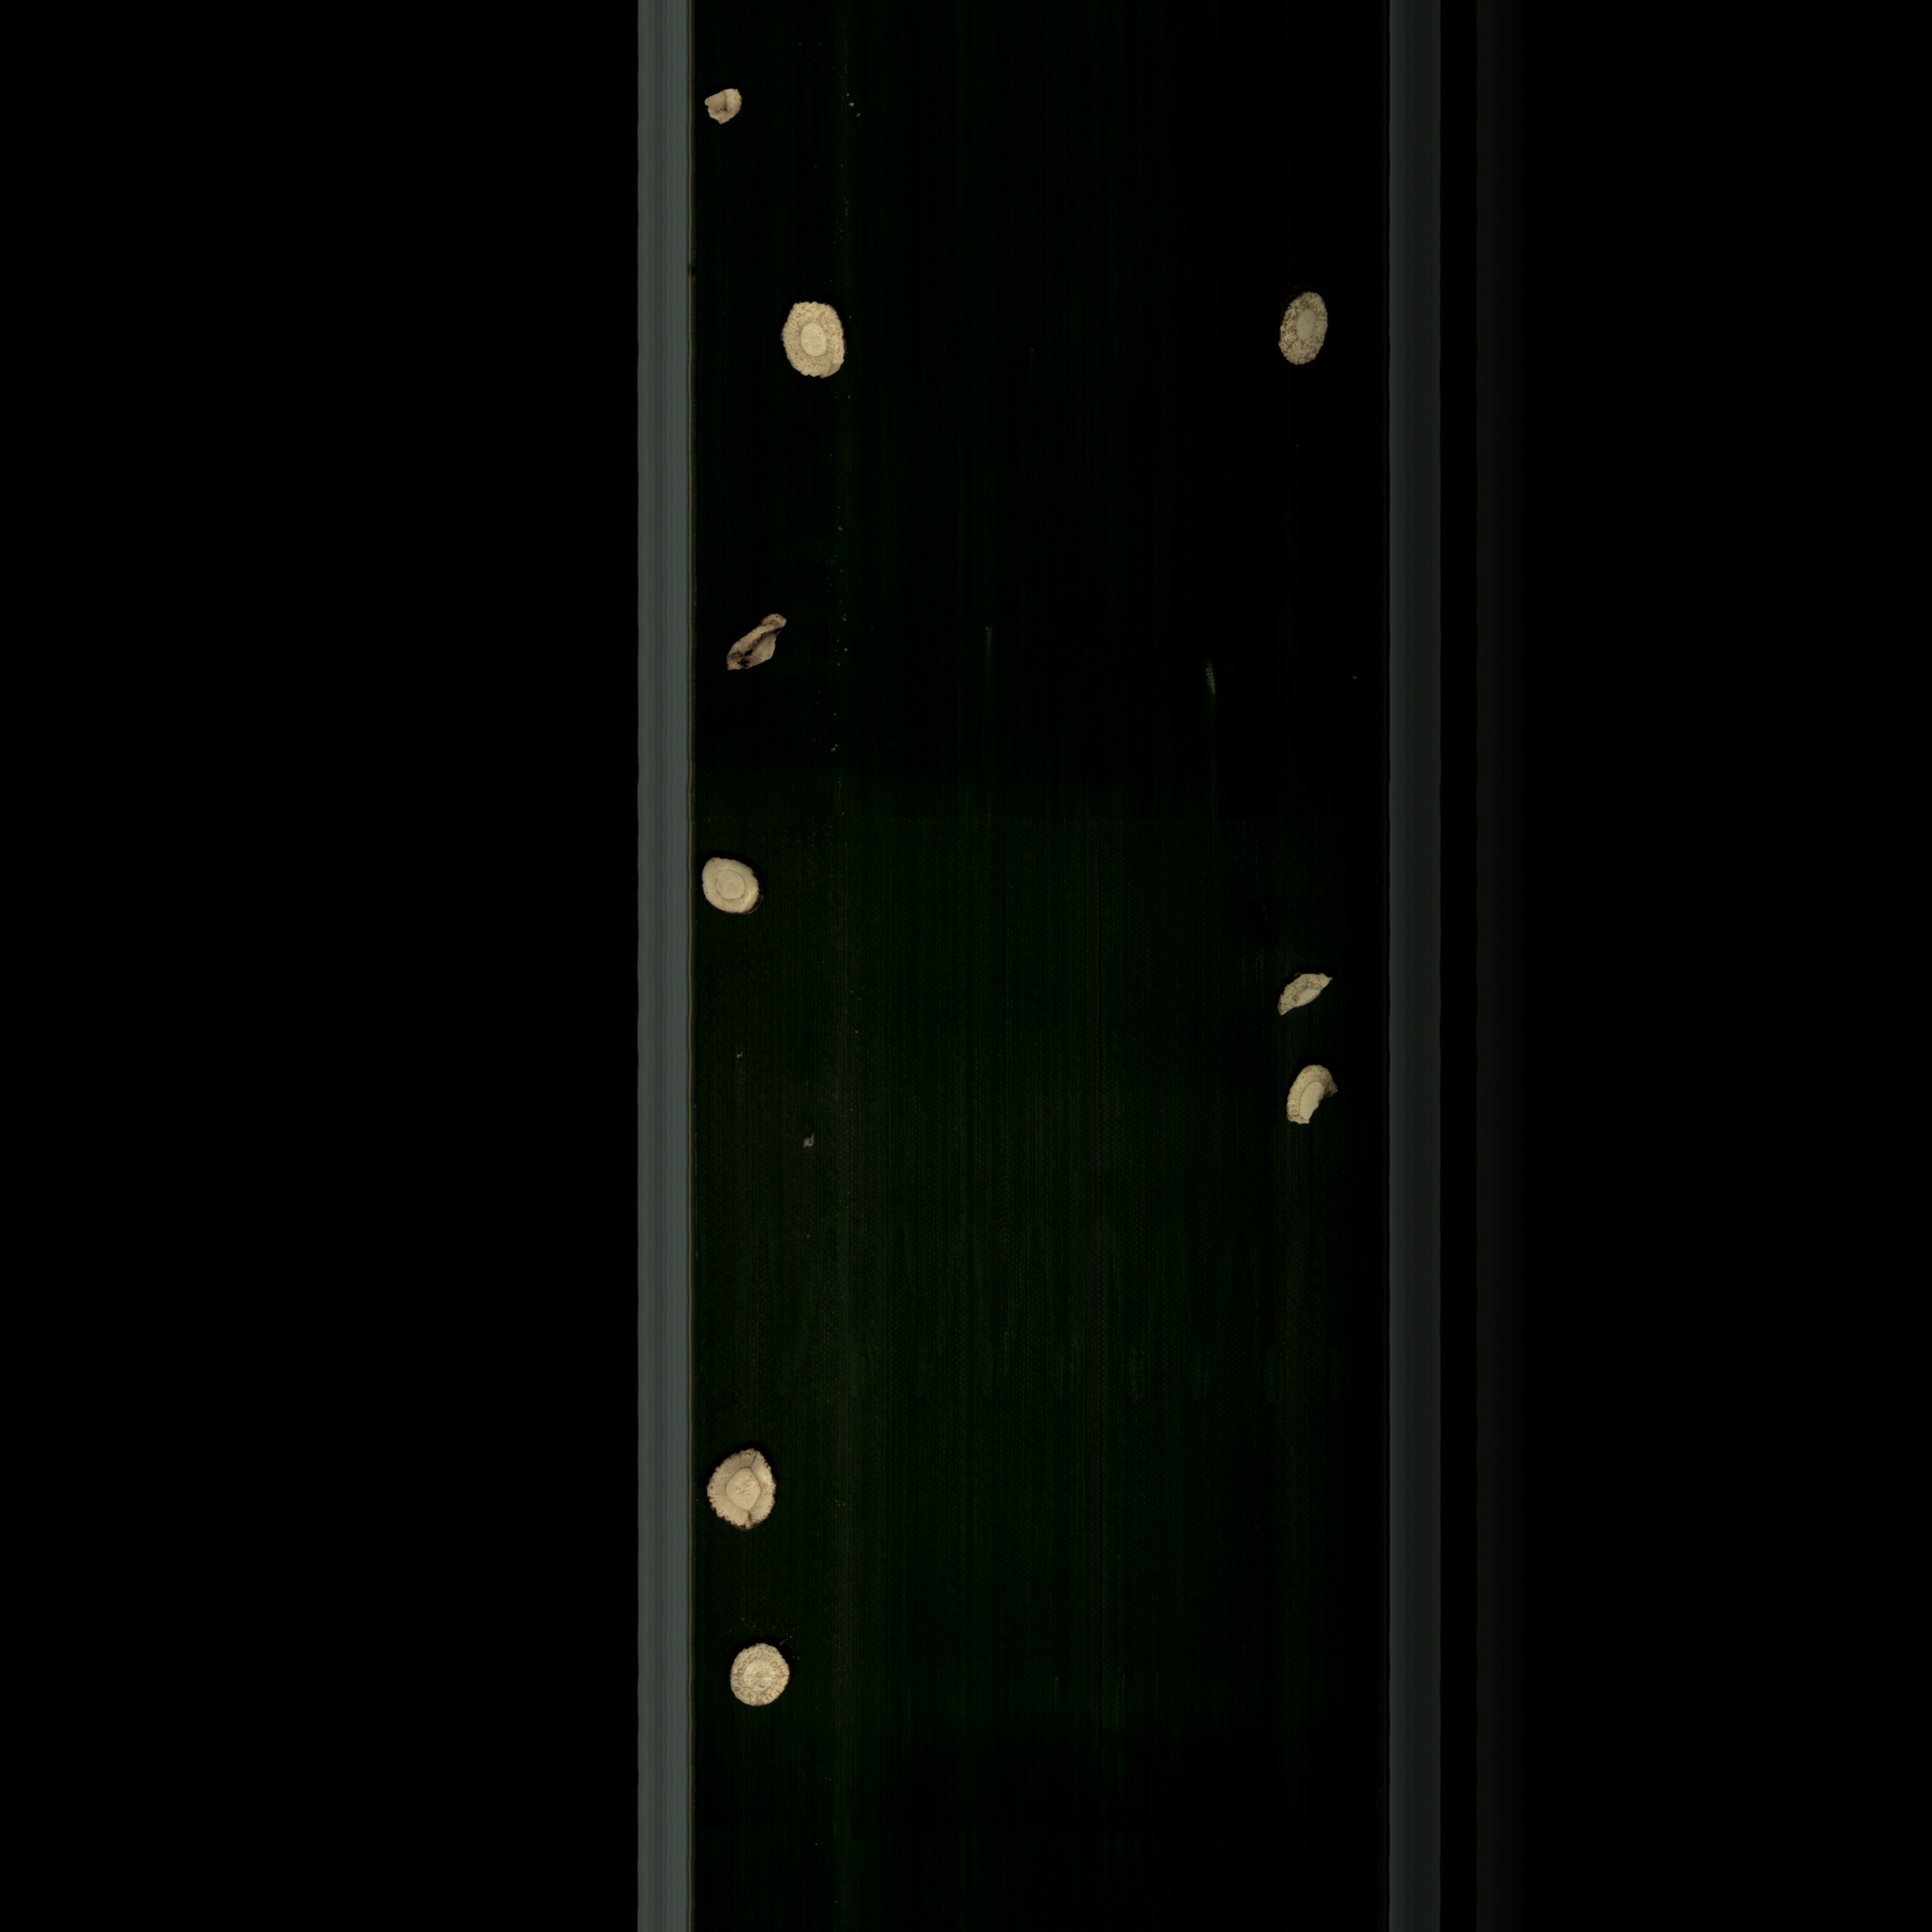distortion: (699, 1449, 787, 1536)
dreg: (1276, 1049, 1346, 1139), (1276, 968, 1345, 1026), (789, 1127, 828, 1154)
moldy: (1270, 283, 1334, 375), (715, 609, 794, 679), (690, 80, 750, 133)
